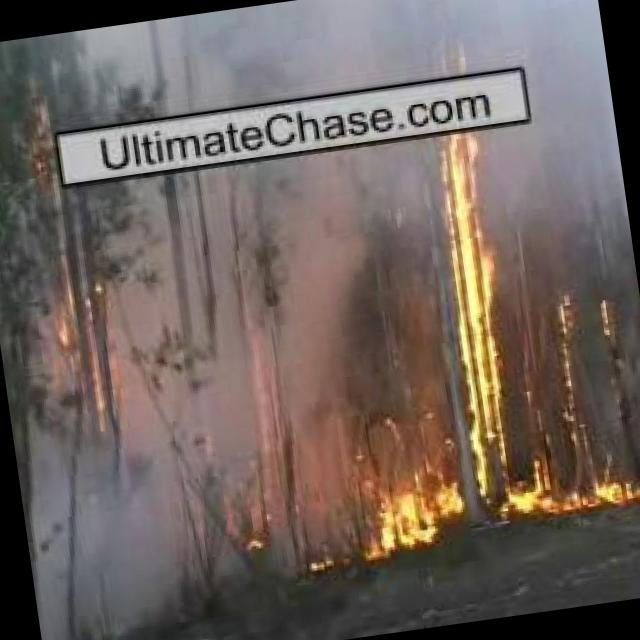Fire: (437, 130, 552, 522), (40, 248, 126, 442), (352, 460, 462, 560), (561, 460, 640, 509), (229, 492, 276, 556)
